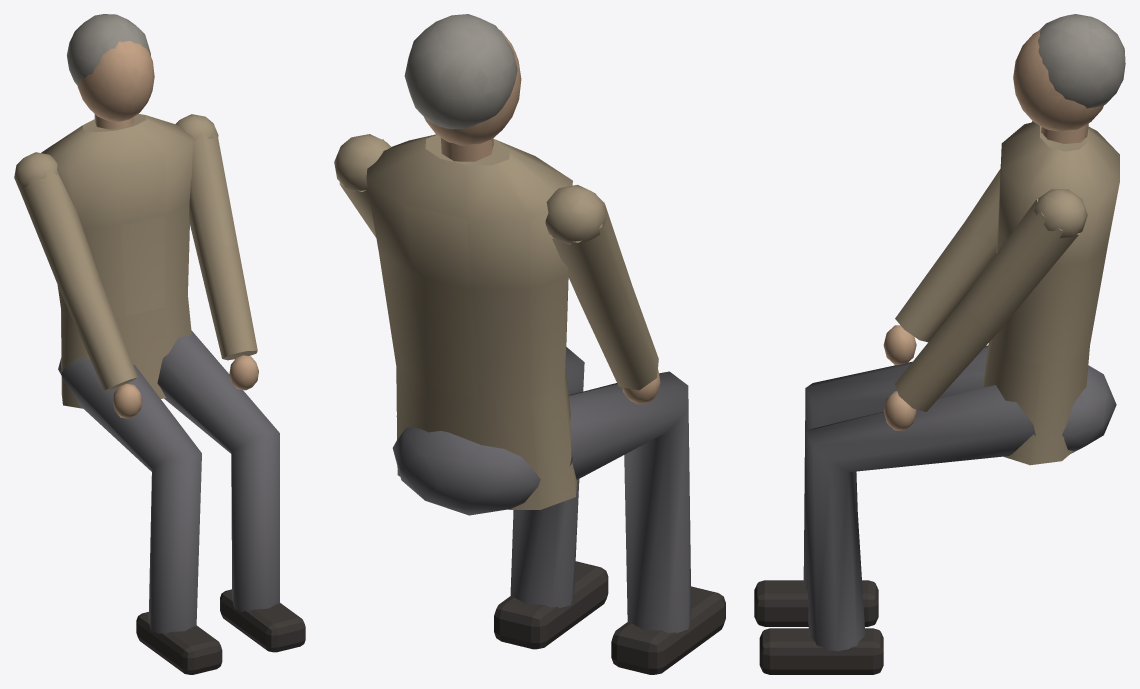
File: people_sitting_01.glb
3 views of the same model, side by side, from view 1: azimuth 30°, elevation 25°; view 2: azimuth 150°, elevation 25°; view 3: azimuth 270°, elevation 25° (orthographic). The views are drawn at different scales.
Visible parts, largest first — view 1: people_sitting_01; view 2: people_sitting_01; view 3: people_sitting_01.
Boxes of the visible parts, bbox=[...] form: people_sitting_01: bbox=[14, 14, 305, 674]; people_sitting_01: bbox=[334, 14, 725, 674]; people_sitting_01: bbox=[754, 14, 1125, 674].
Bounding box in the file's own units: 0.5091 × 1.33 × 0.7171.
